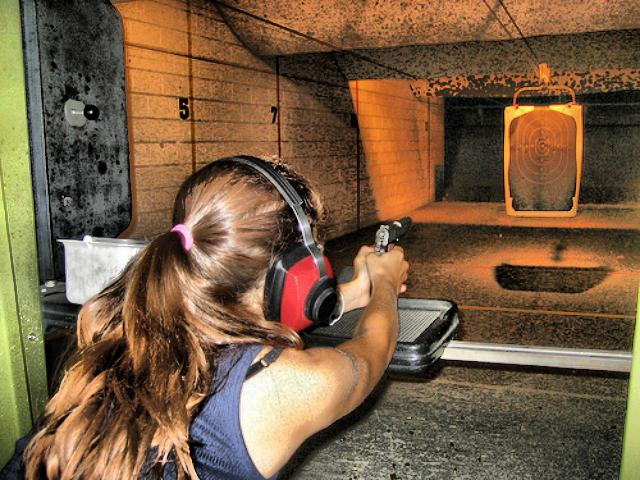pistol: (370, 213, 412, 253)
